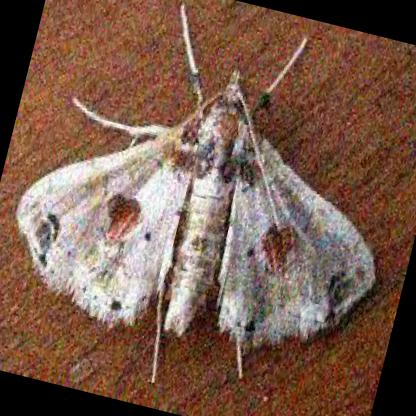leucinodes: (14, 71, 374, 348)
